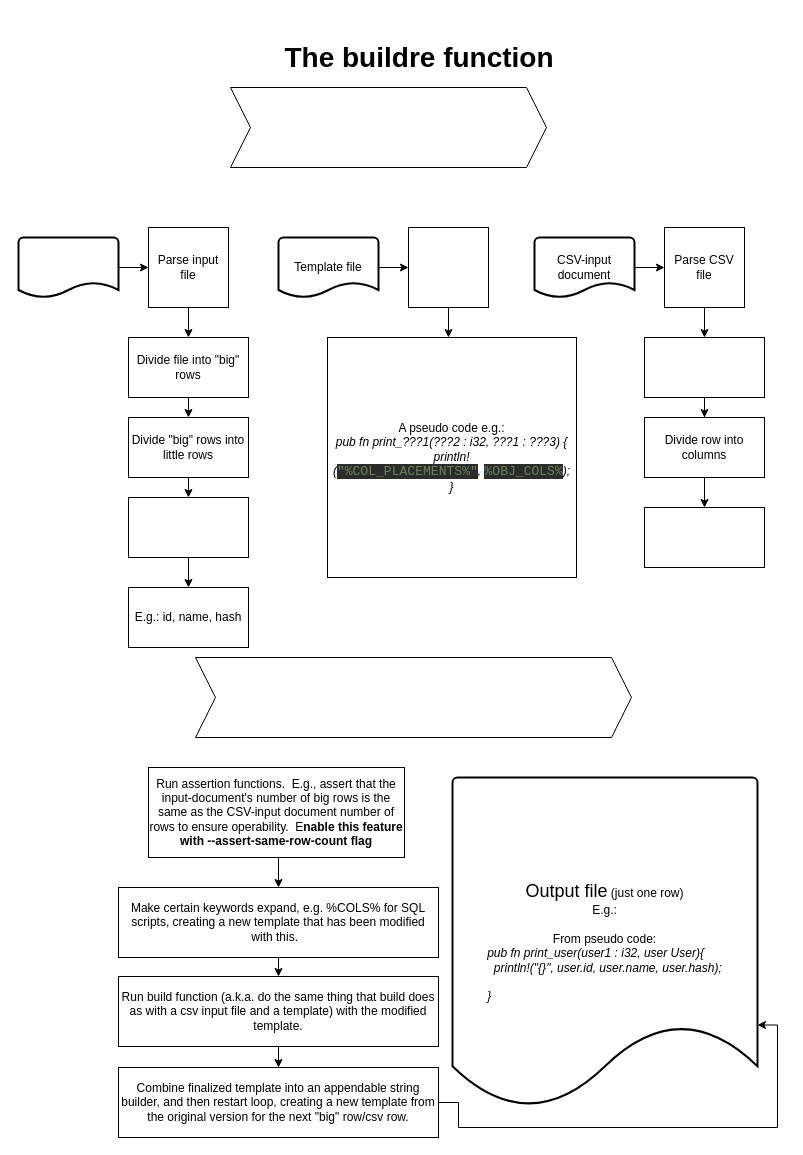
Image size: 803x1155. Some labels were removed from this diagram. Here are the shapes that lost their labels. From the top down, the centre of each, then its label:
At (x=388, y=127): "1. Parse files and glean basic data".
At (x=68, y=267): "Input document".
At (x=448, y=267): "Parse text file".
At (x=704, y=367): "Divide file into rows".
At (x=188, y=527): "Divide little row into columns".
At (x=704, y=537): "E.g.: user, user1, User".
At (x=413, y=697): "2. Create modified templates".
